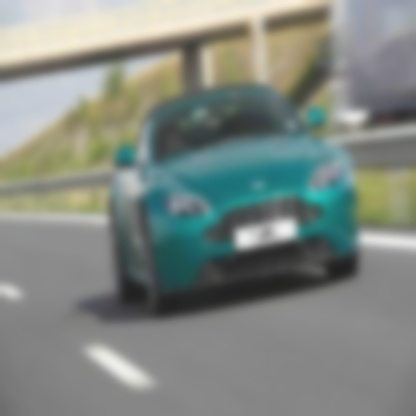Vehicle: (107, 80, 363, 322)
